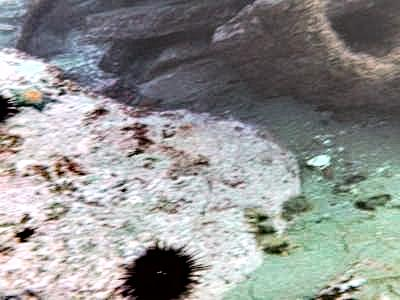urchin: (115, 239, 204, 297), (336, 12, 387, 52), (2, 90, 17, 123)
